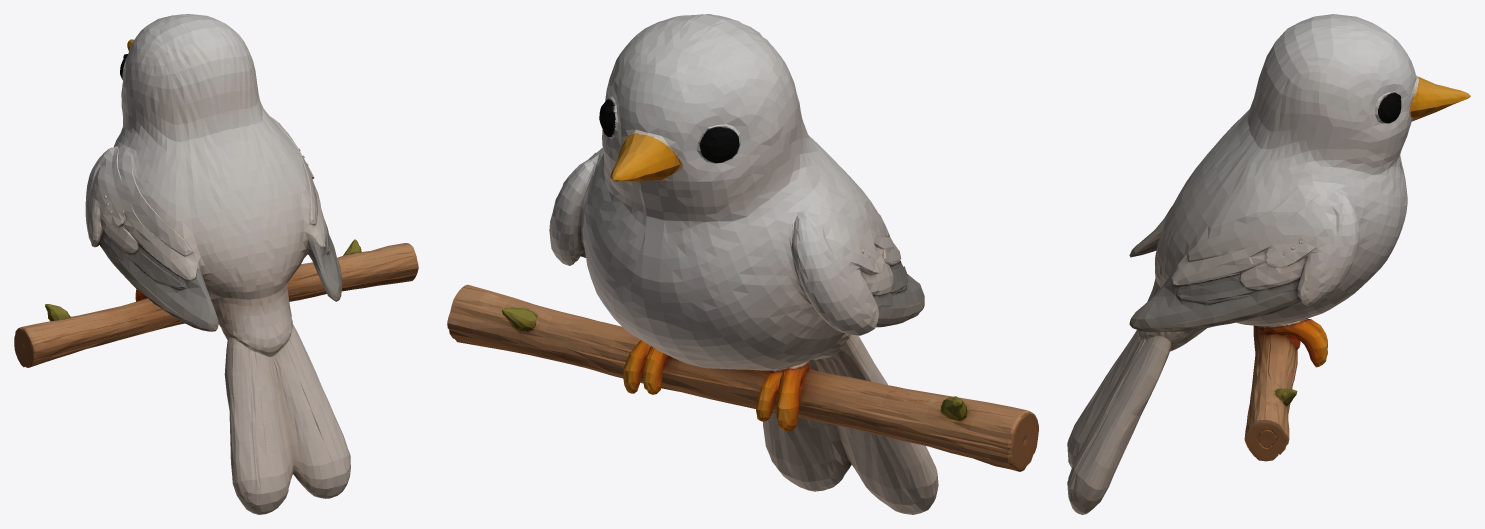
File: cutewhitebirdstandonwood.glb
3 renders of one model, left to right at view 1: azimuth 30°, elevation 25°; view 2: azimuth 150°, elevation 25°; view 3: azimuth 270°, elevation 25°, orthographic. The views are drawn at different scales.
Visible parts, largest first — view 1: tripo_node_3fce569d-ca05-4f4a-8cfc-d8a533cace68; view 2: tripo_node_3fce569d-ca05-4f4a-8cfc-d8a533cace68; view 3: tripo_node_3fce569d-ca05-4f4a-8cfc-d8a533cace68.
Boxes of the visible parts, <box> form: tripo_node_3fce569d-ca05-4f4a-8cfc-d8a533cace68: <box>14,14,418,514</box>; tripo_node_3fce569d-ca05-4f4a-8cfc-d8a533cace68: <box>447,14,1038,514</box>; tripo_node_3fce569d-ca05-4f4a-8cfc-d8a533cace68: <box>1067,14,1470,514</box>.
Size of the model in its own units: 0.9941 by 0.998 by 0.7749.
1 material, 1 textured.
